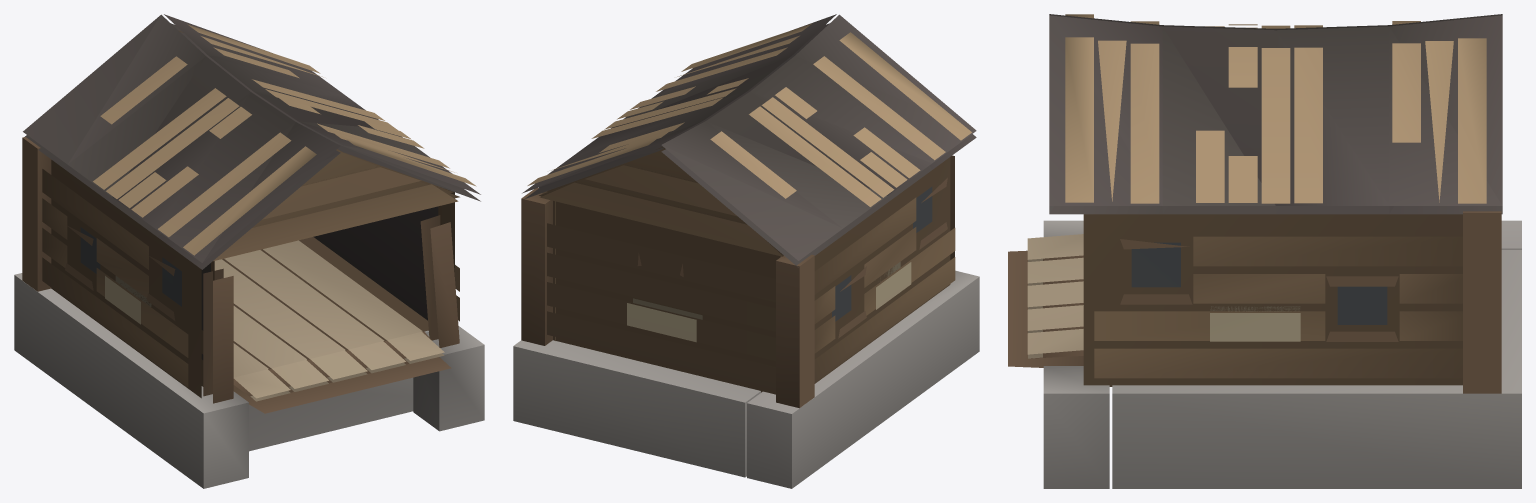
Rendered from boatshed.lod.glb.
3 renders of one model, left to right at view 1: azimuth 30°, elevation 25°; view 2: azimuth 150°, elevation 25°; view 3: azimuth 270°, elevation 25°, orthographic. The views are drawn at different scales.
Visible parts, largest first — view 1: boatshed; view 2: boatshed; view 3: boatshed.
Boxes of the visible parts, x1,y1,x2,y2 form: boatshed: [14, 14, 484, 488]; boatshed: [513, 14, 979, 488]; boatshed: [1008, 14, 1521, 488].
Size of the model in its own units: 6 by 6.23 by 7.48.
